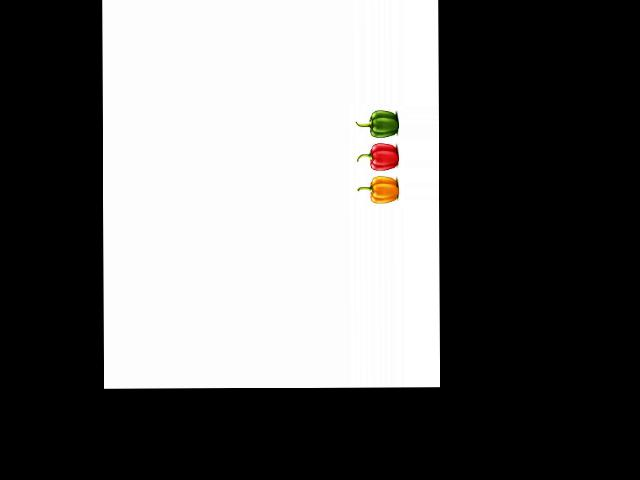bell_pepper: (356, 107, 400, 137)
